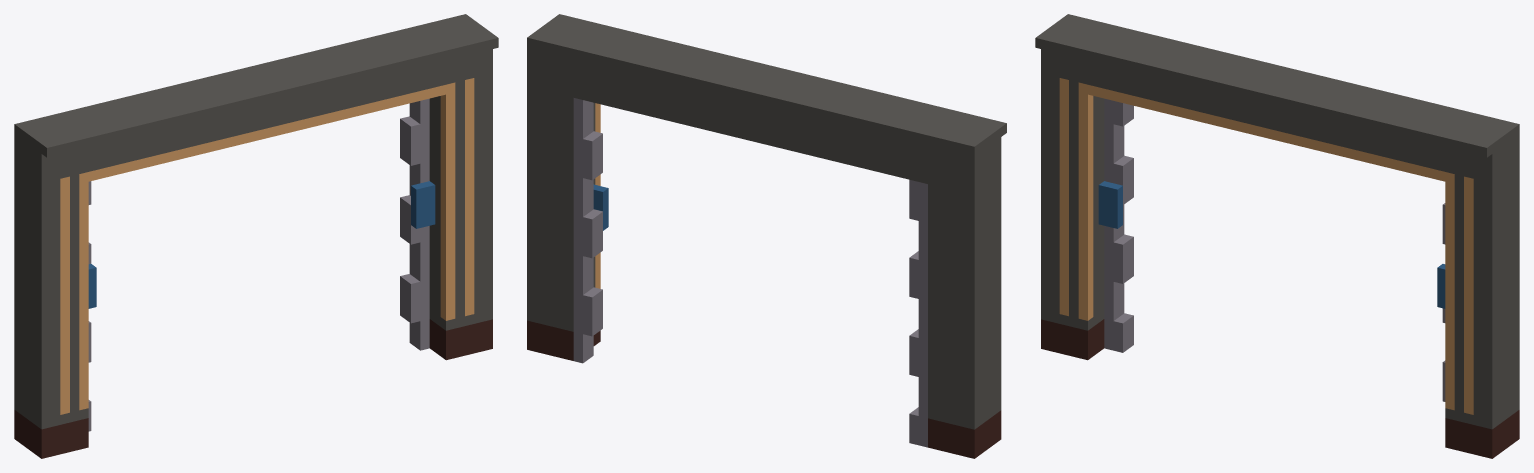
File: BigDoorBlueOpen.obj
The picture shows the model from 3 angles, left to right: view 1: azimuth 30°, elevation 25°; view 2: azimuth 150°, elevation 25°; view 3: azimuth 330°, elevation 25°; orthographic projection.
Bounding box in the file's own units: 48 × 32 × 6.
1 material, 1 textured.
